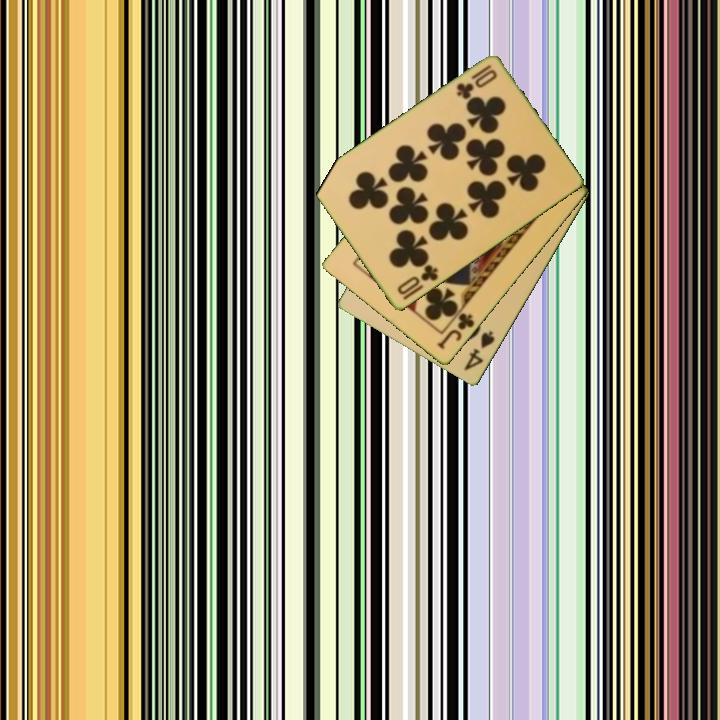10c: (453, 62, 500, 103), (394, 261, 441, 298)
4s: (460, 327, 498, 374)
Jc: (434, 309, 477, 353)
